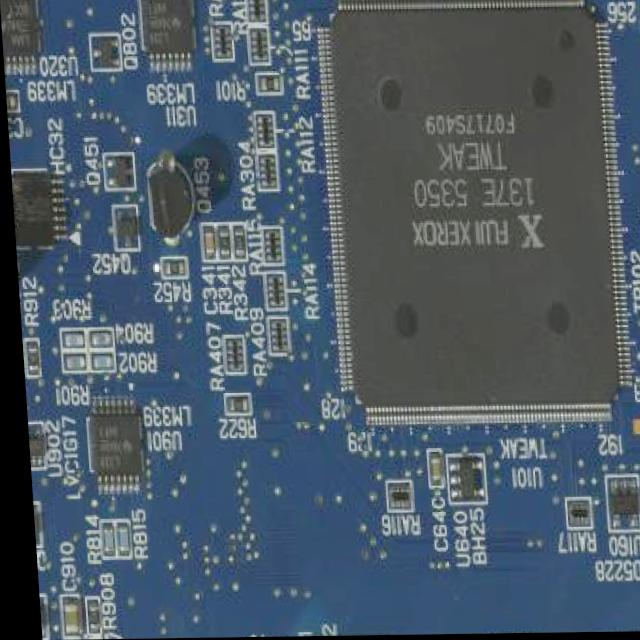IC: (326, 6, 618, 412), (83, 411, 140, 483), (9, 172, 52, 244), (140, 0, 194, 54), (0, 0, 39, 58), (602, 492, 636, 521), (450, 460, 471, 505), (23, 435, 37, 462)
capacitor: (54, 602, 71, 635), (424, 458, 436, 484), (202, 230, 213, 255), (5, 95, 15, 110)
resistor: (264, 276, 283, 308), (251, 31, 270, 62), (222, 339, 241, 370), (262, 229, 279, 263), (267, 321, 285, 353), (256, 156, 274, 188), (214, 27, 231, 60), (254, 115, 271, 148), (383, 487, 406, 511), (562, 506, 585, 529), (216, 228, 229, 259), (224, 397, 244, 416), (110, 526, 123, 555), (259, 76, 280, 93), (22, 345, 35, 372), (80, 604, 93, 631), (249, 0, 265, 21), (95, 527, 107, 554), (232, 230, 244, 257), (162, 261, 180, 278), (61, 333, 80, 349), (87, 333, 107, 348), (90, 355, 108, 371), (62, 354, 80, 370)
transistor: (111, 156, 129, 192), (97, 34, 115, 70), (113, 216, 135, 238), (32, 606, 41, 629), (27, 514, 36, 537)
